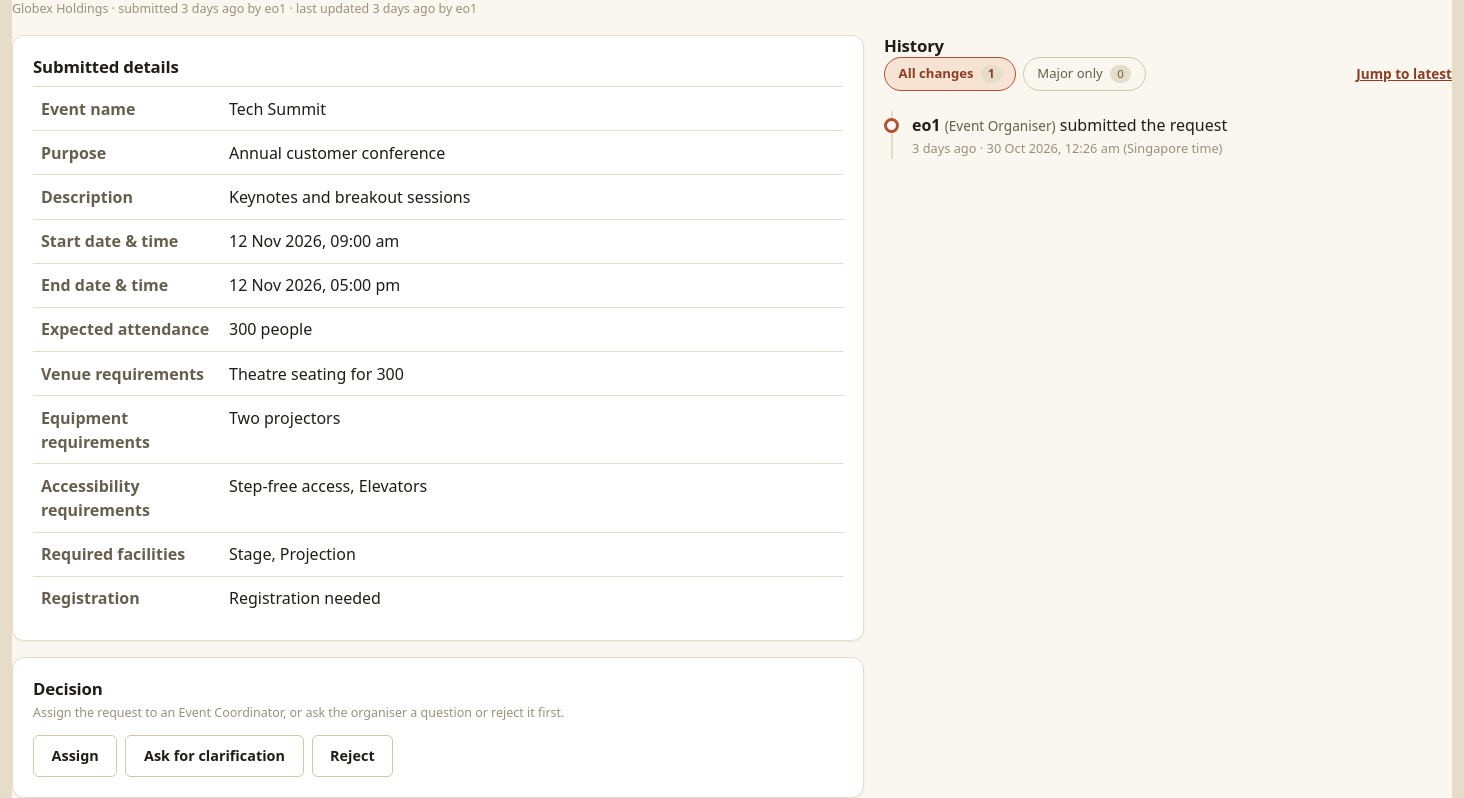
Test case: IncomingRequestReviewPage (ECL-C3 Lead review, ELC-C6 assignment, ELC-C5 reassignment) › says so when the Event Coordinators cannot be loaded, and assigning sends nothing
(page scrolled)
Step 1. Click the button "Assign" → (75, 756), box [33,734,117,777]
(page scrolled)
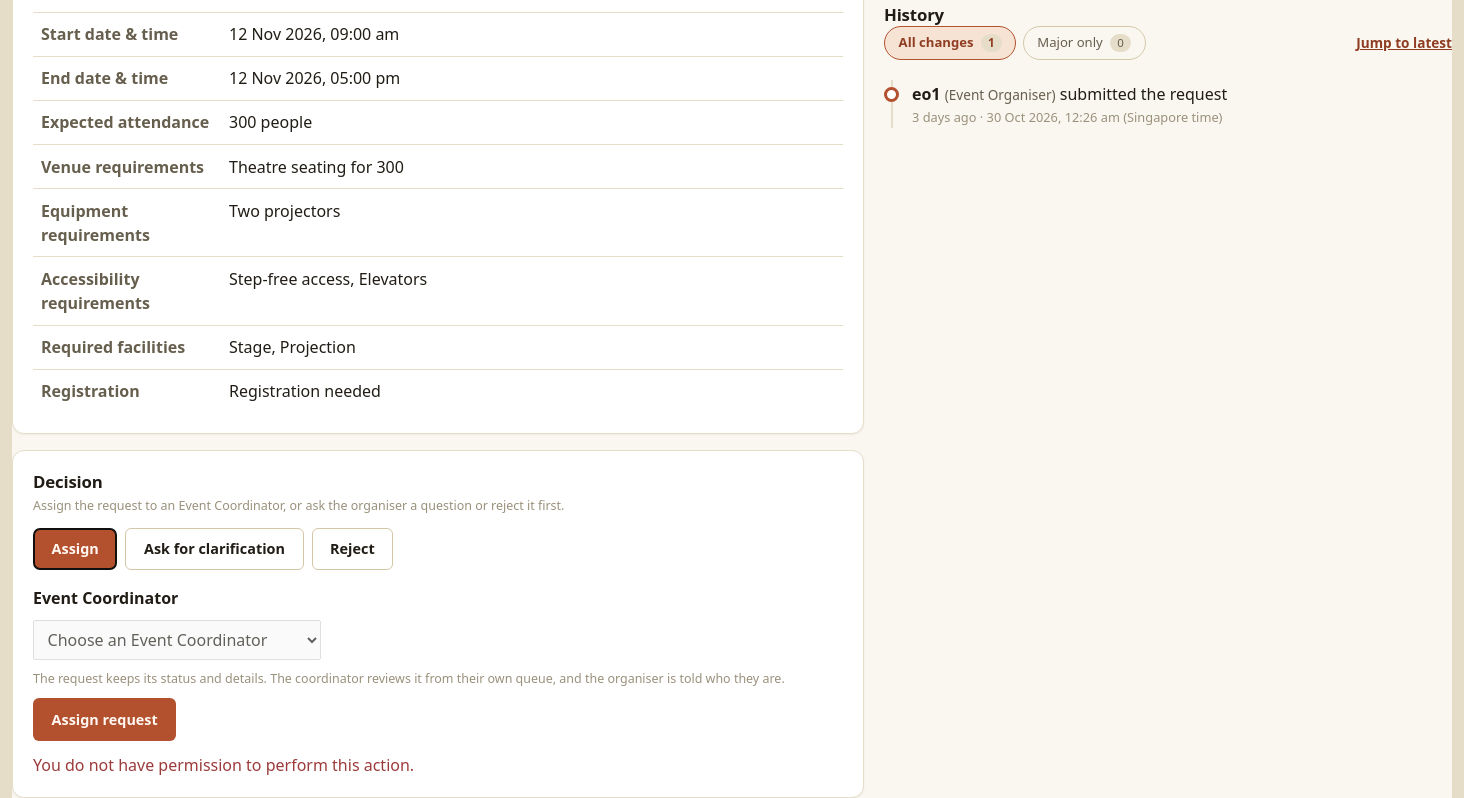
Now the message reads "You do not have permission to perform this action.", box [33,754,414,776]
Step 2. Click the button "Assign request" → (105, 720), box [33,698,176,741]
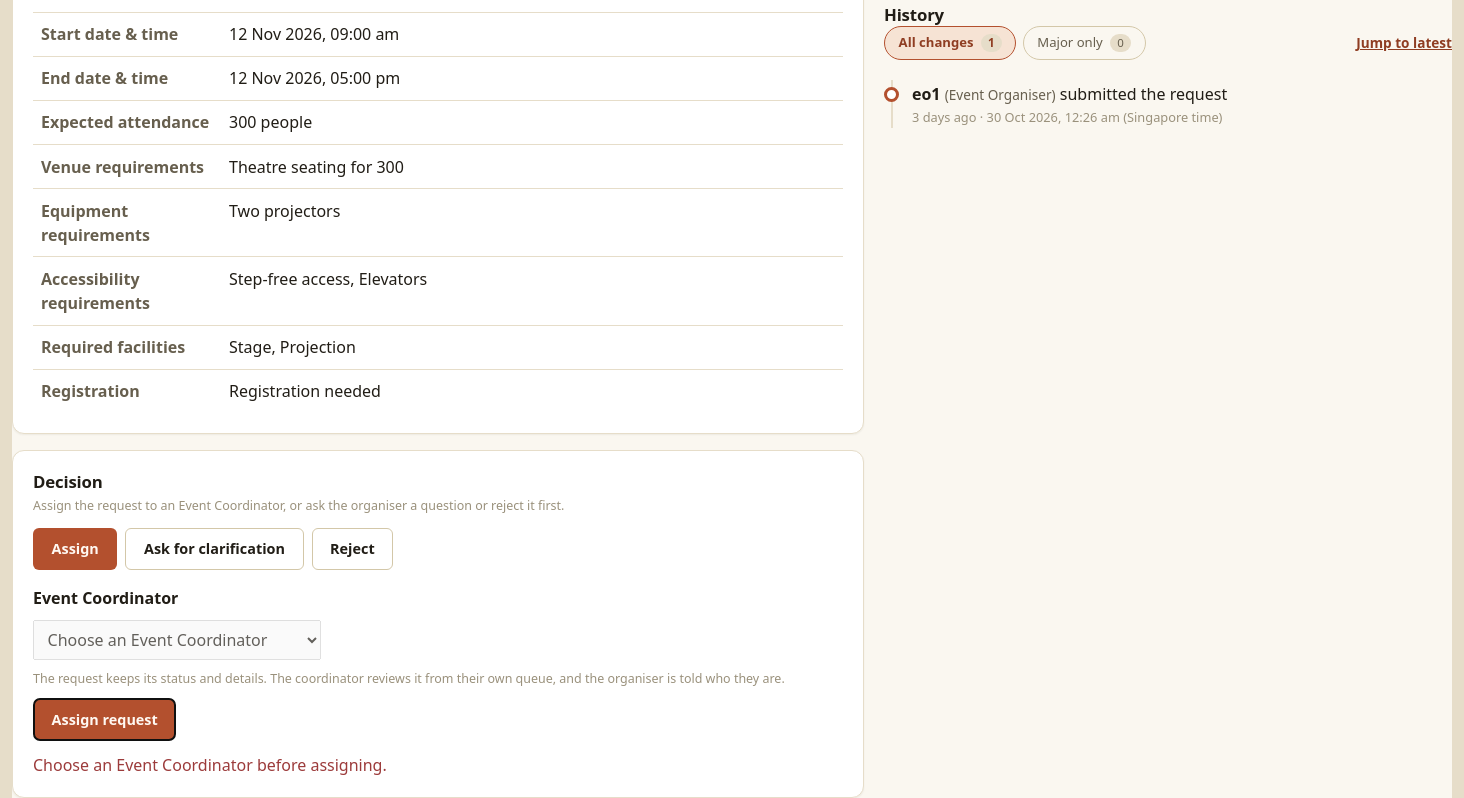
Now the message reads "Choose an Event Coordinator before assigning.", box [33,754,387,776]
